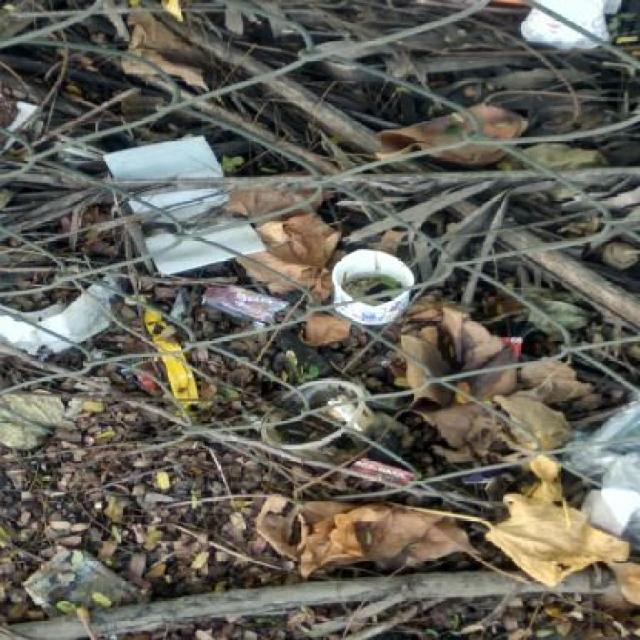garbage: (75, 128, 284, 290), (115, 249, 250, 449), (280, 249, 482, 350), (243, 381, 404, 486), (372, 97, 543, 188), (2, 294, 129, 414), (566, 402, 639, 590), (506, 0, 639, 56)
